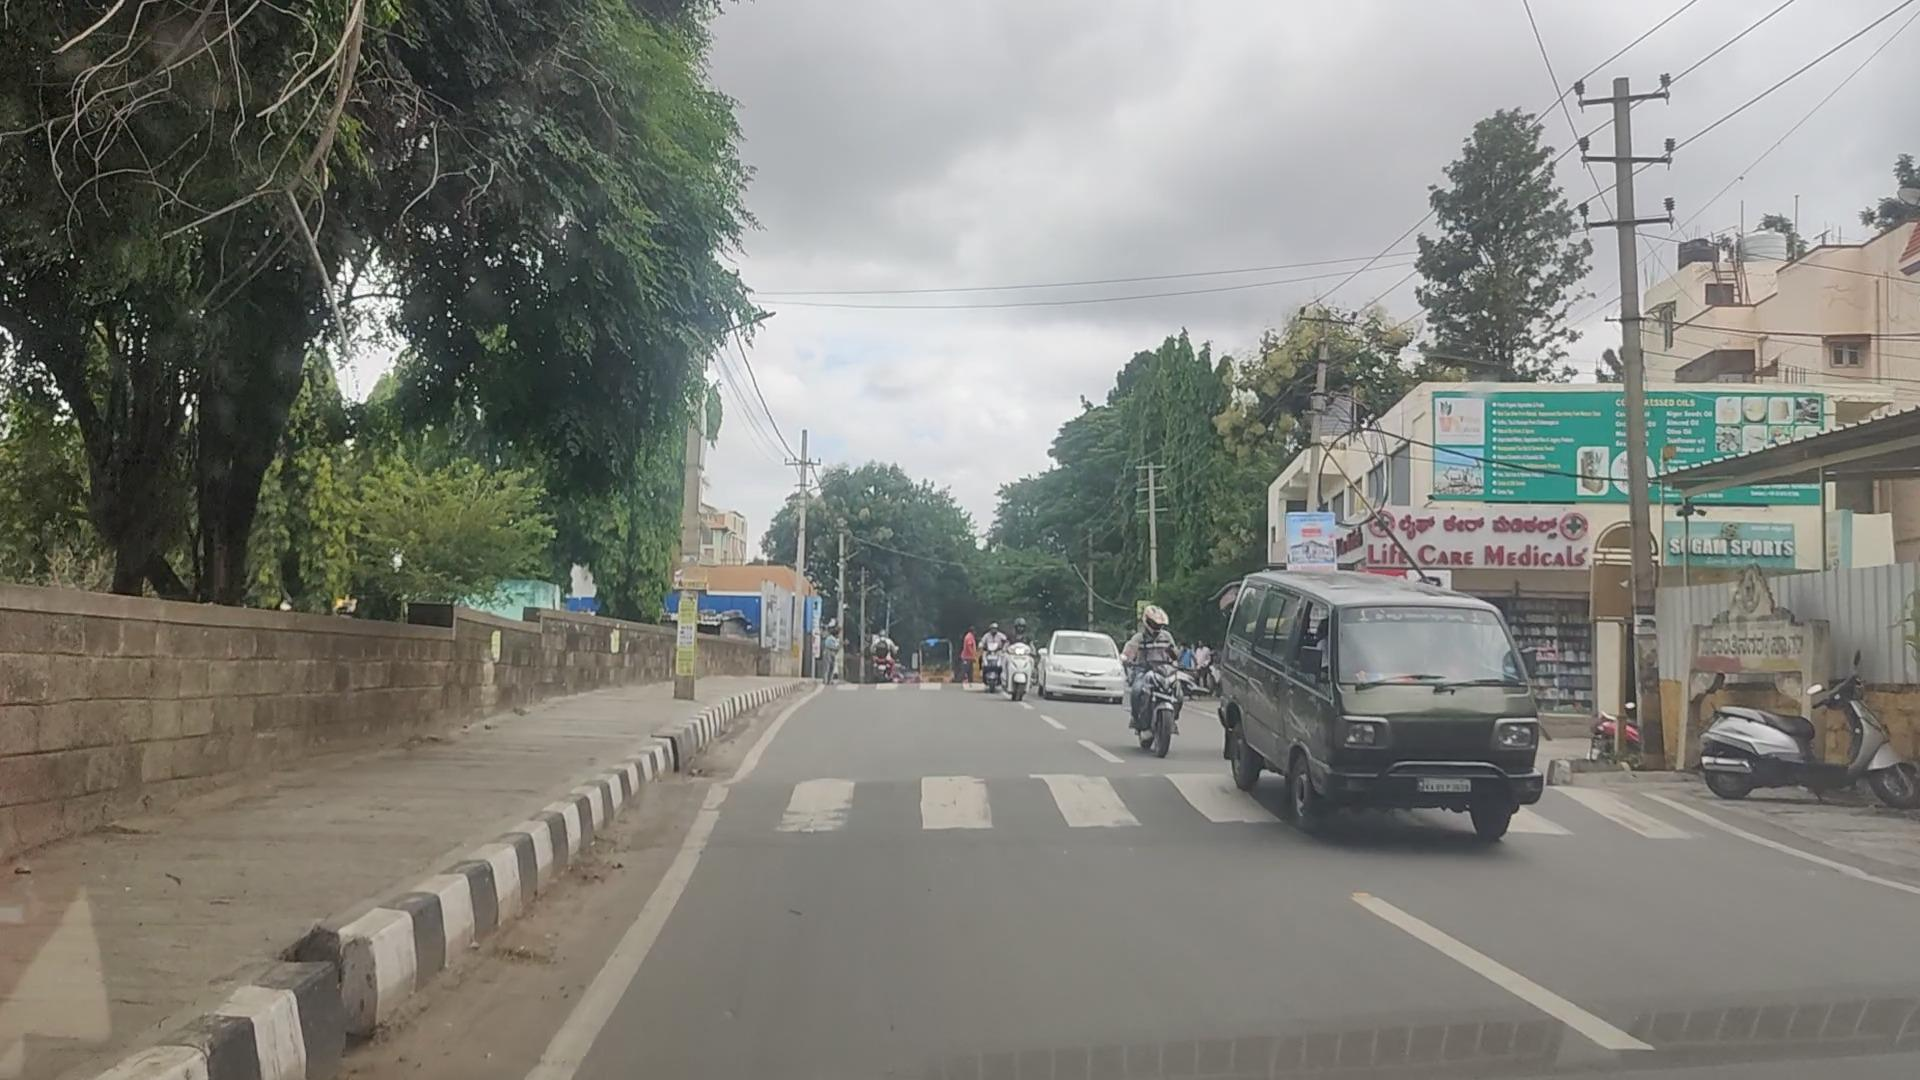LMV: (1222, 570, 1540, 845)
SpeedBump: (653, 770, 1266, 829)
